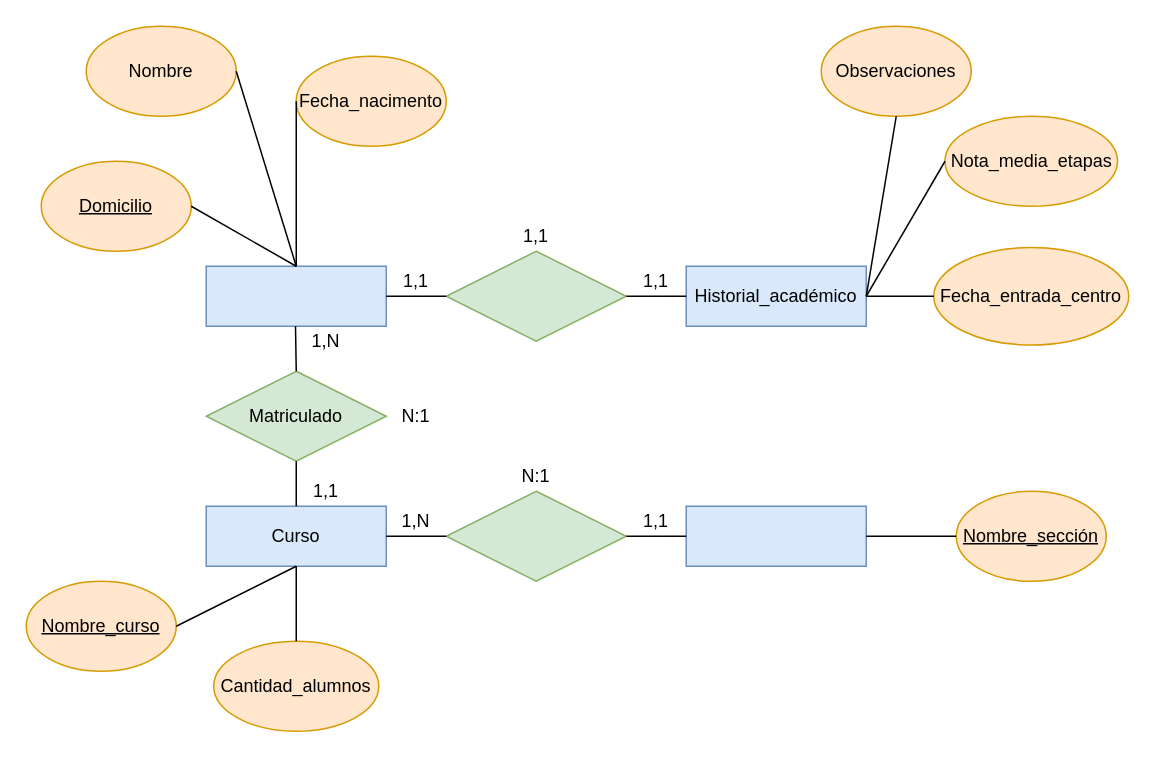
Image size: 1155x758. Some labels were removed from this diagram. The shapes that lost their labels are listed below. From the top down, each one's box as (x1, y1, x2, y2) in pixels, then its label:
(205, 265, 386, 326): Alumno
(445, 250, 626, 341): Dispone
(445, 490, 626, 581): Pertenece
(685, 505, 866, 566): Sección
